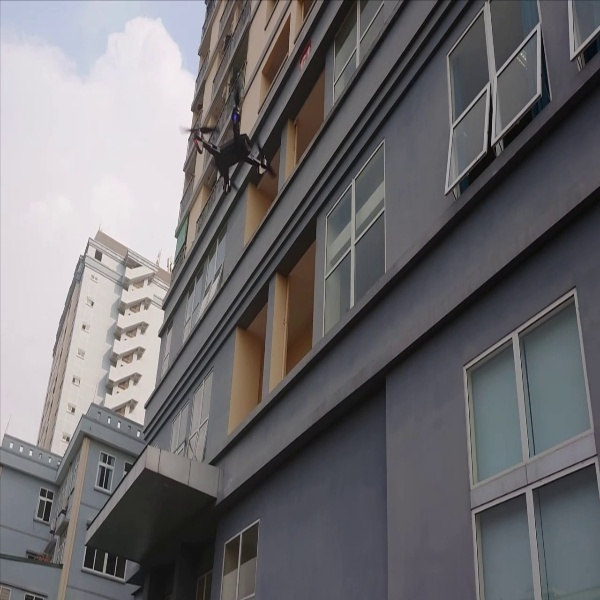drone: (183, 77, 278, 194)
